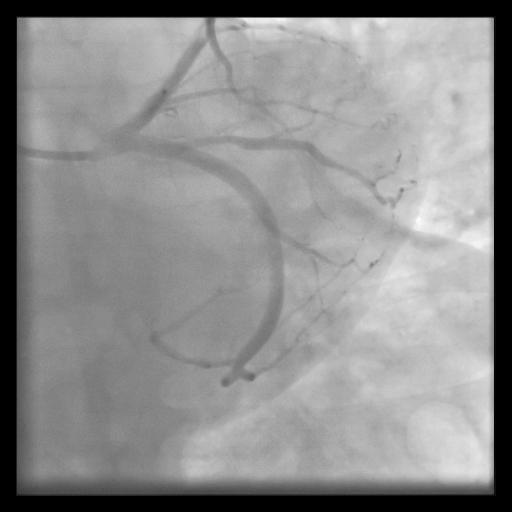Stenosis: (197, 129, 233, 148)
